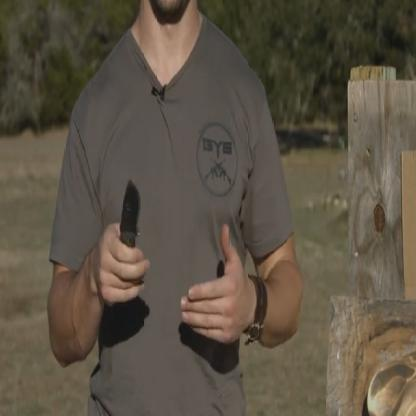knife: (103, 170, 147, 310)
